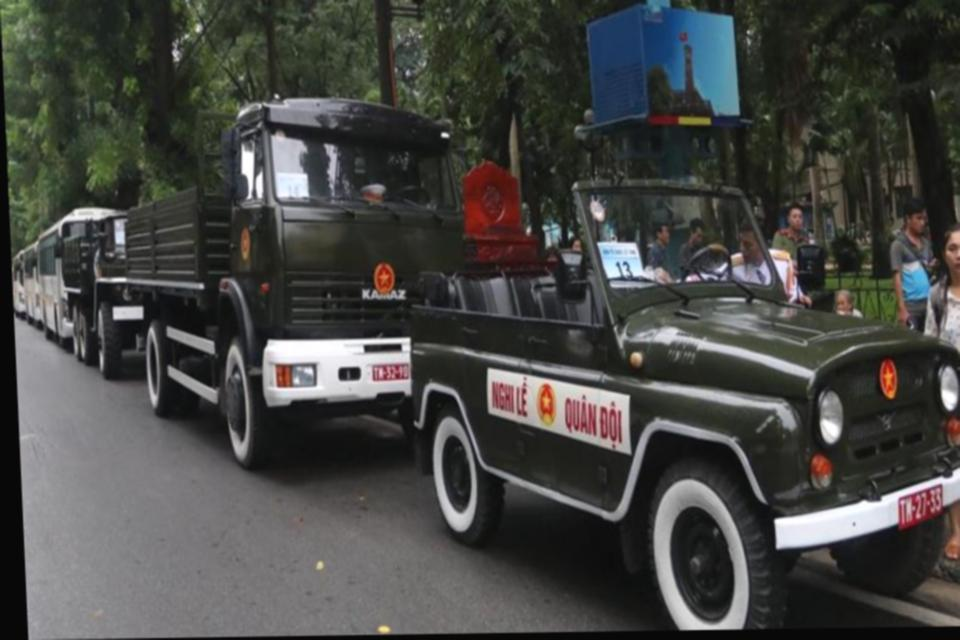License_Plate: (893, 481, 950, 533), (370, 357, 412, 385)
